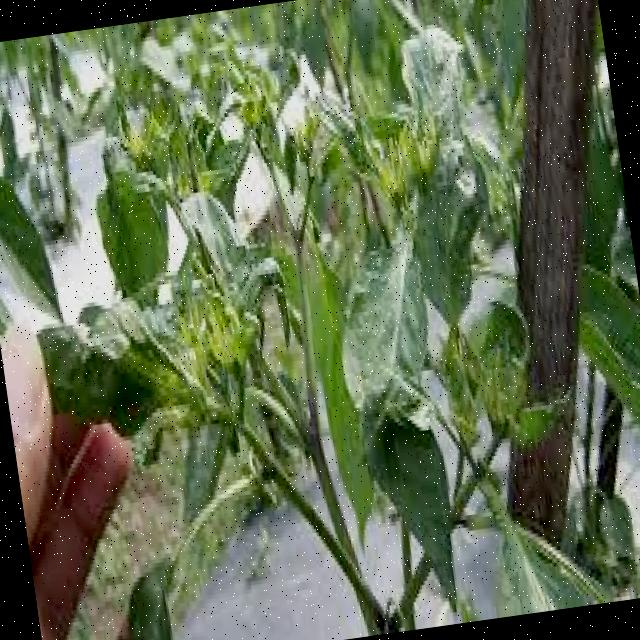healthy: (111, 0, 570, 635)
